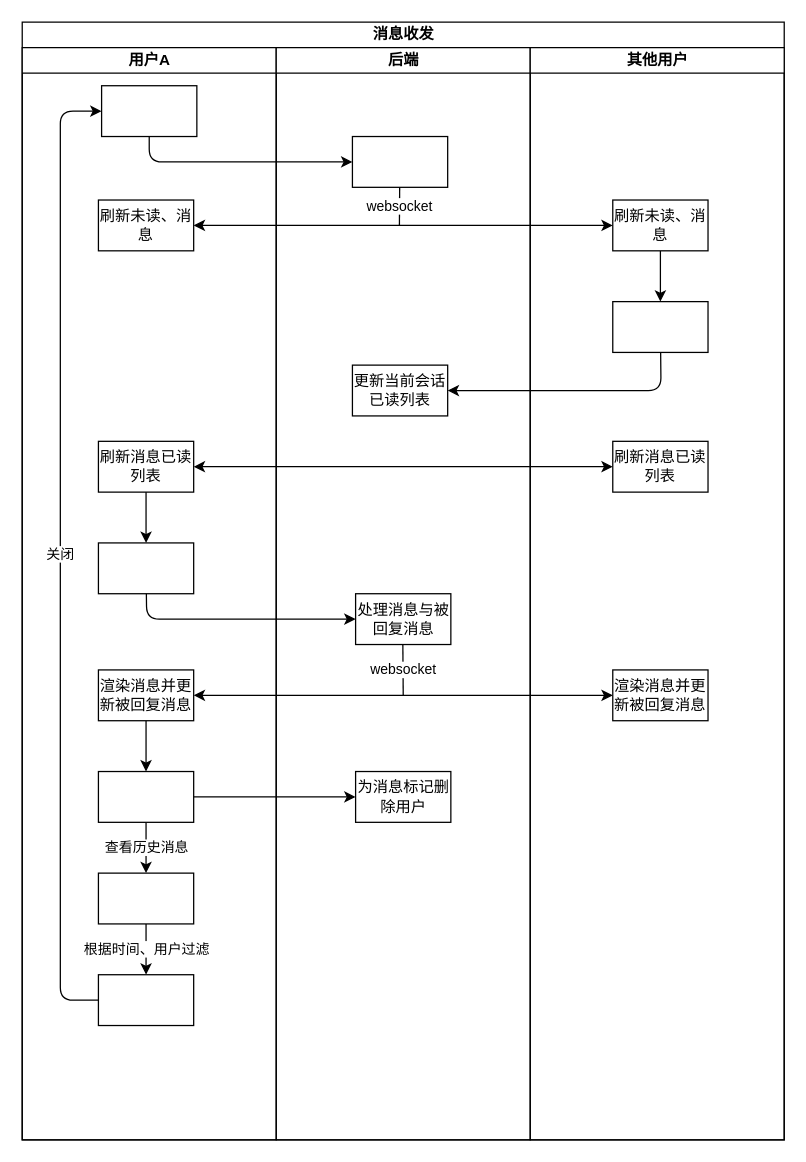
Image size: 806x1162. Some labels were removed from this diagram. The shapes that lost their labels are listed below. From the top down, each one's centre as x and y in pixels, then its label:
the point at 148,110: 发送消息
the point at 399,161: 处理消息时间、内容等
the point at 660,326: 点击会话清除未读
the point at 145,568: 回复消息
the point at 145,796: 删除消息
the point at 145,898: 历史消息
the point at 145,999: 特定消息
